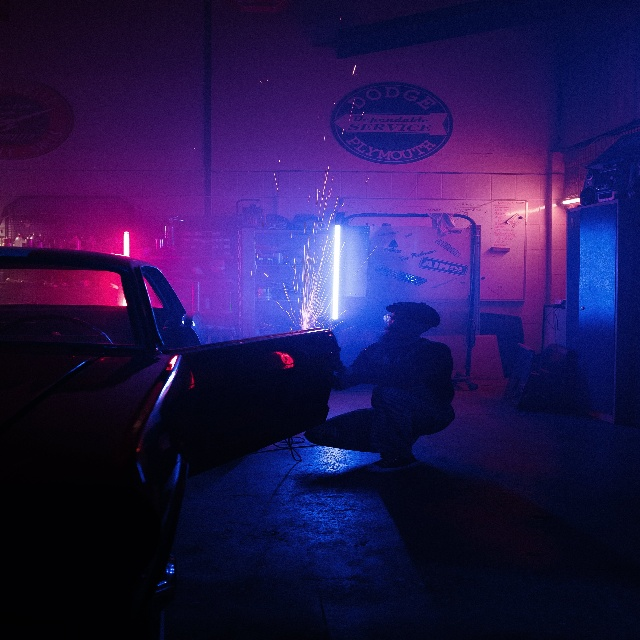Gafas: (383, 313, 396, 325)
